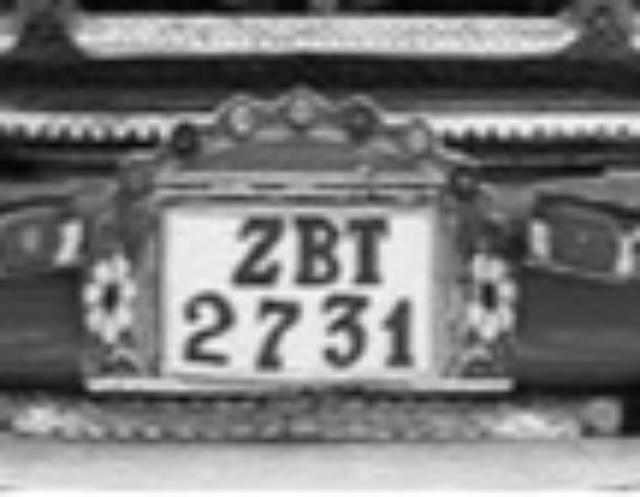Number: (180, 212, 420, 372)
